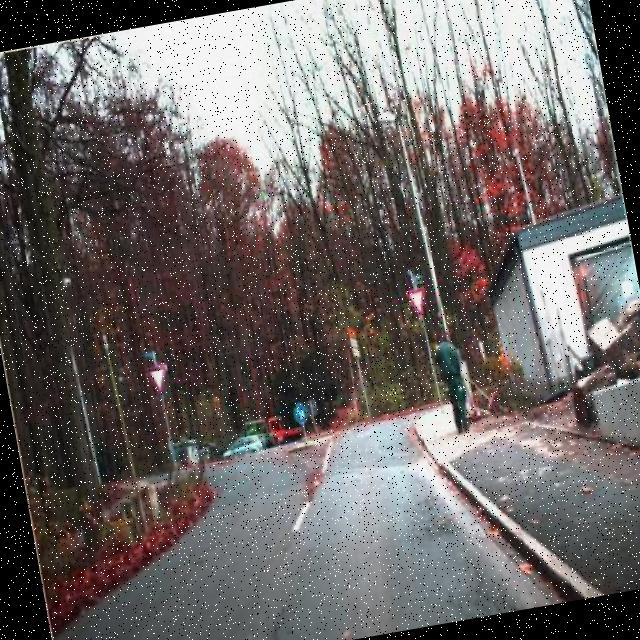Ustap pierwszenstwa: (142, 360, 172, 400), (402, 283, 431, 320)
